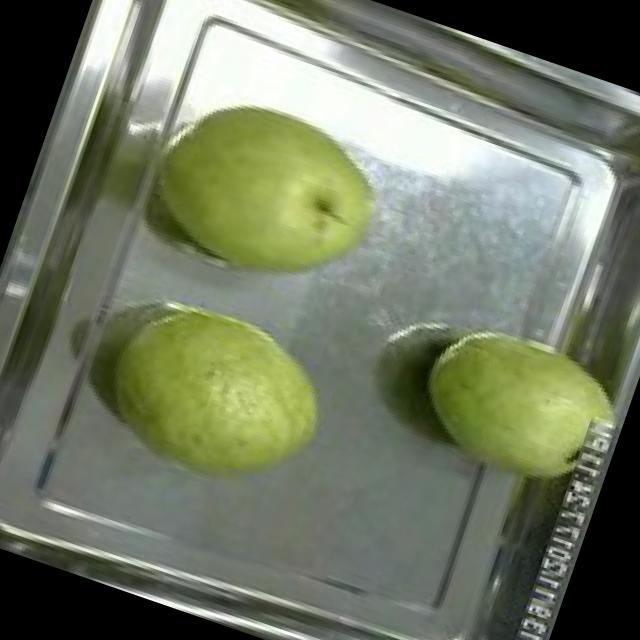Fruit: (130, 66, 408, 316), (82, 269, 359, 516), (392, 295, 638, 513)
